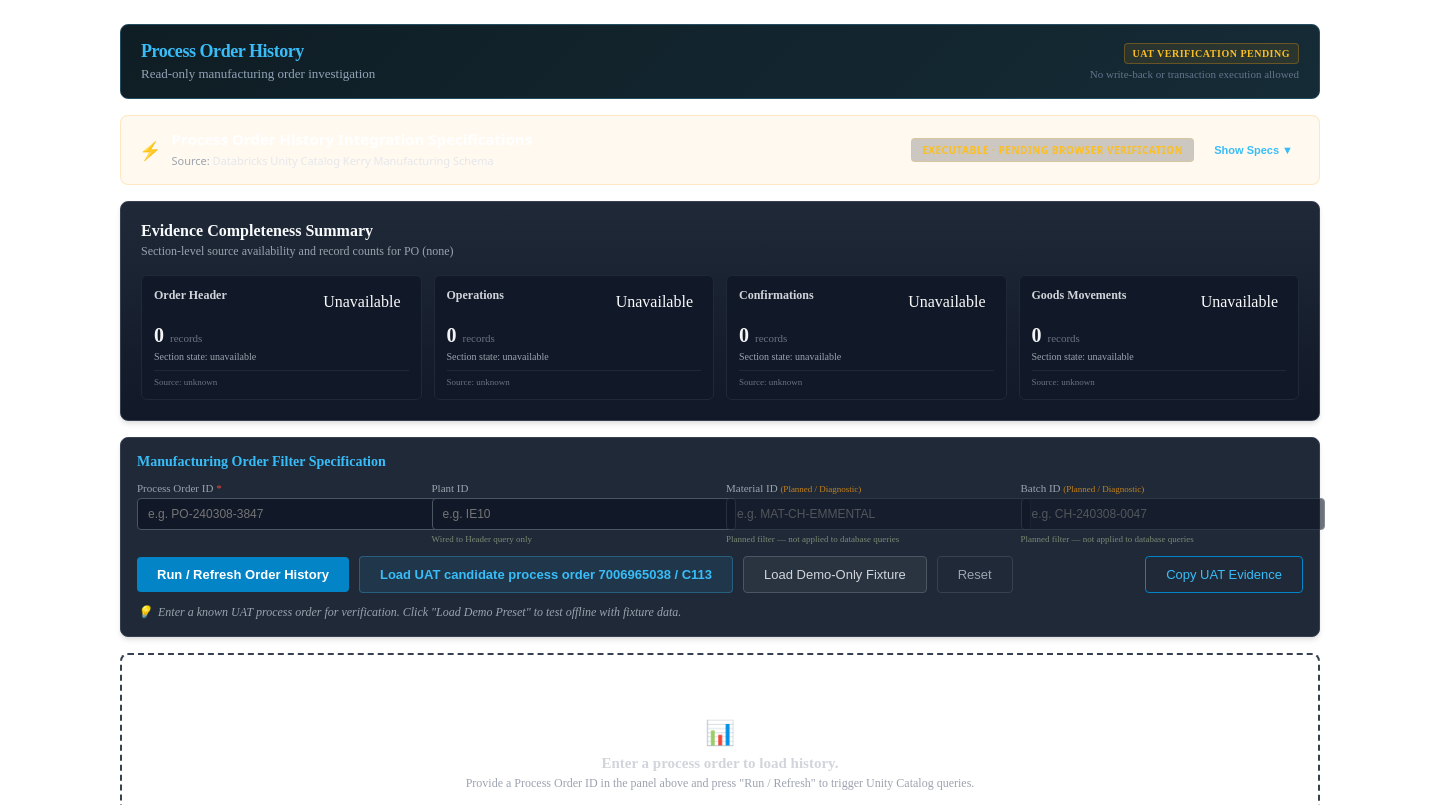
OrderHistoryView › displays mock fixture warning banner and diagnostic fieldset when preset is clicked, and auto-dismisses on input change or reset
The width and height of the screenshot is (1440, 805).
// Verify preset button
Click the button "Load Demo-Only Fixture" at (835, 574), box [743,556,927,593]
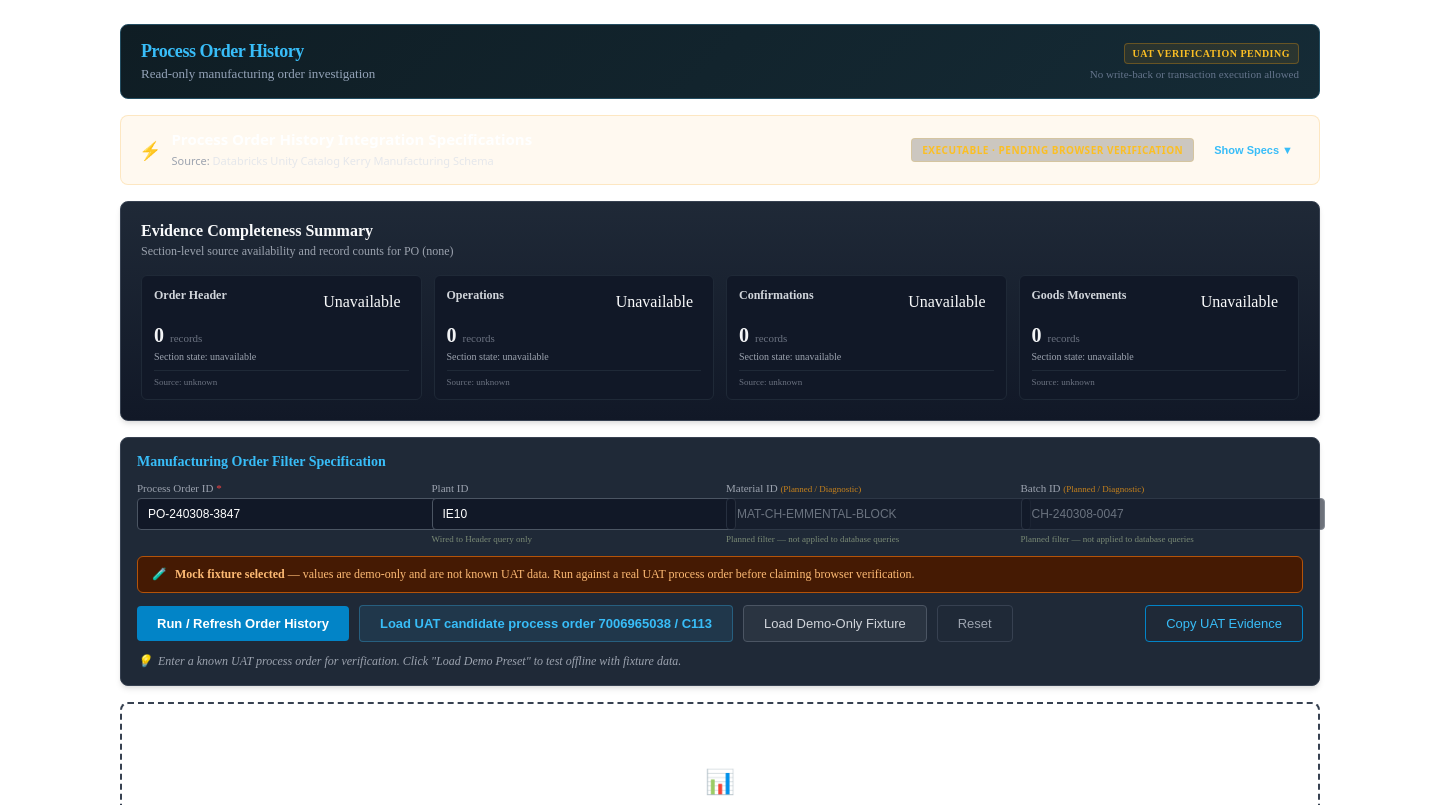
Expected: the text "Mock fixture selected" is shown, [175,567,285,581]
// Edit process order input
Replace the text in the field with placeholder "e.g. PO-240308-3847" with "NEW-PO-ID" at (289, 514), box [137,498,442,530]
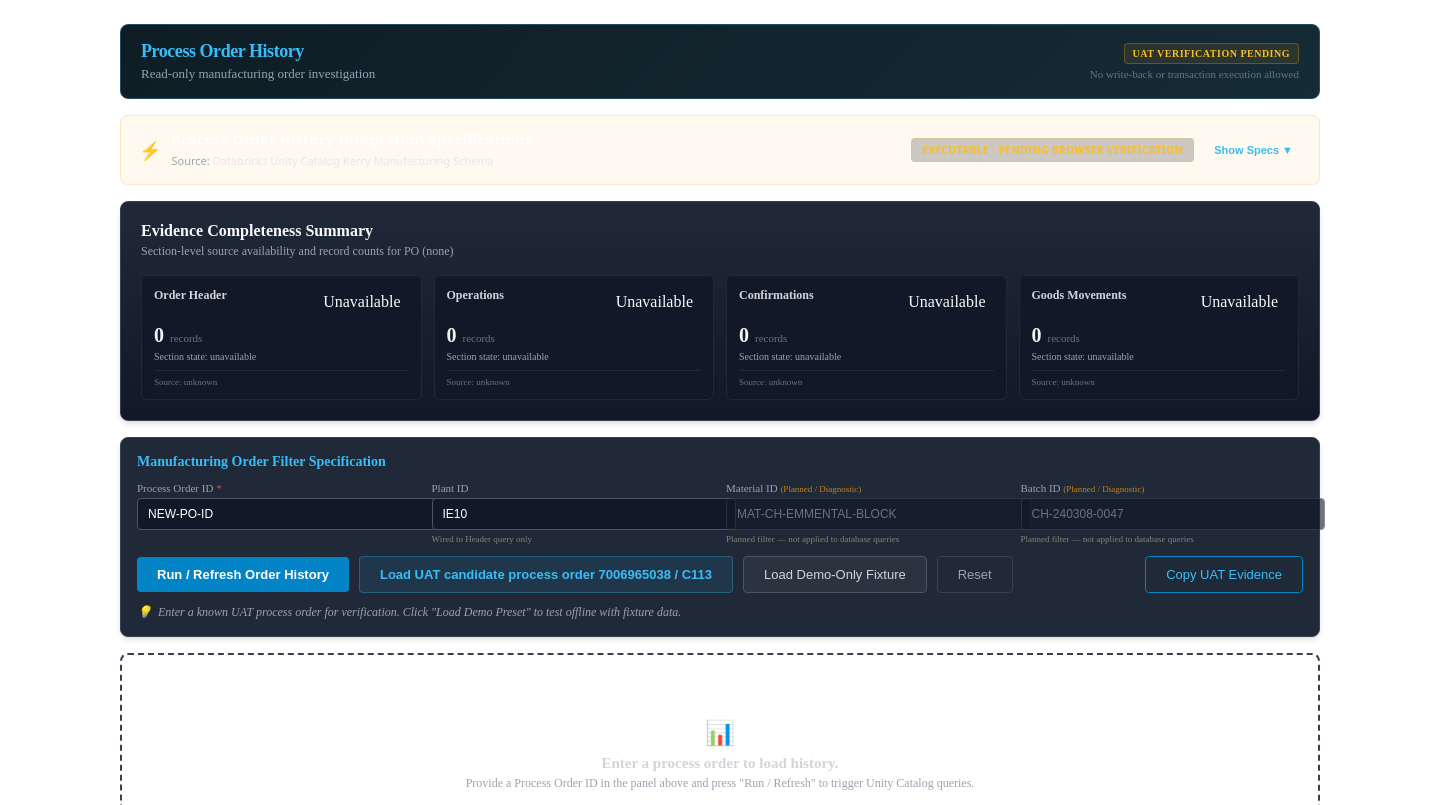
Expected: the text "Mock fixture selected" is gone
// Click preset again to restore warning
Click the button "Load Demo-Only Fixture" at (835, 574), box [743,556,927,593]
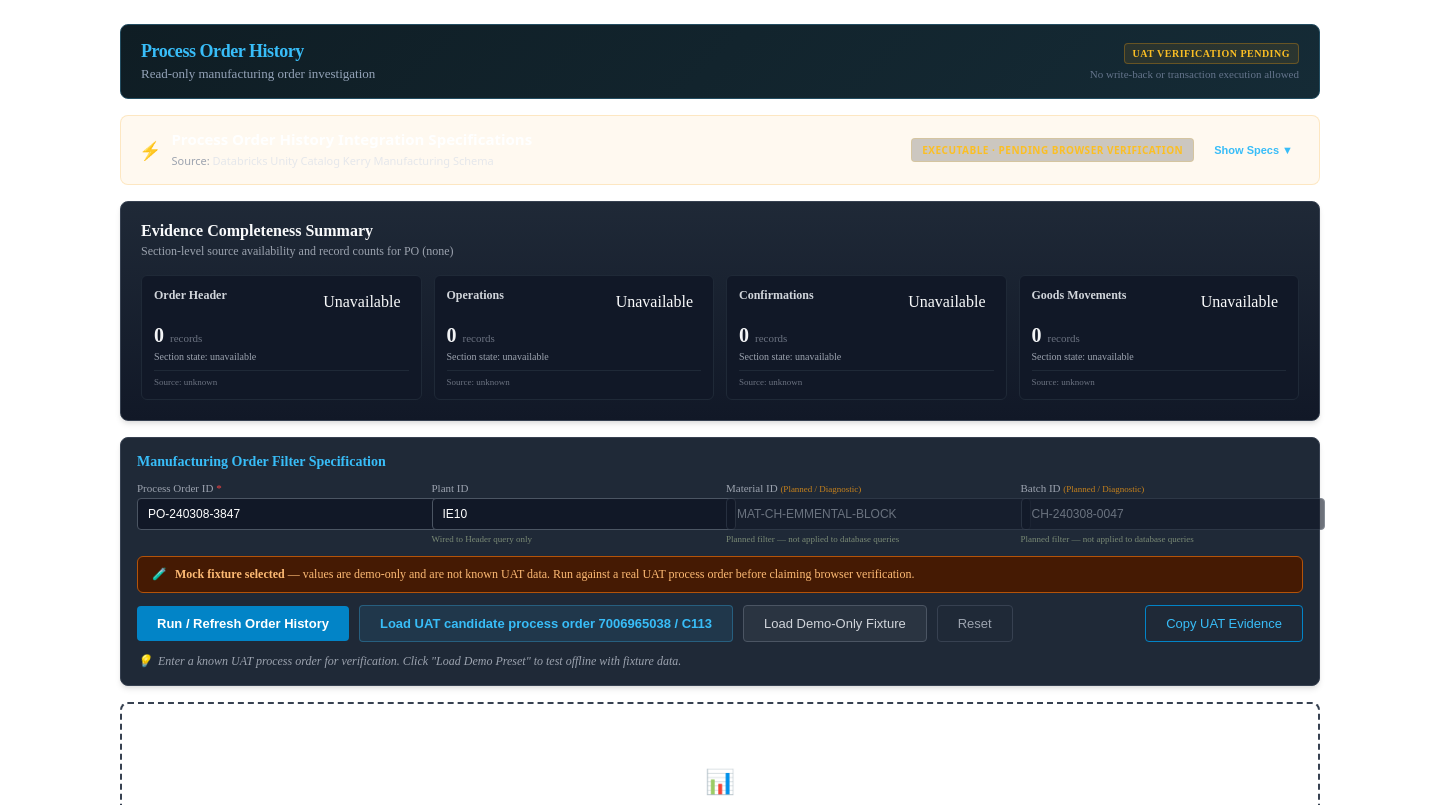
Expected: the text "Mock fixture selected" is shown, [175,567,285,581]
// Edit process order input
Replace the text in the field with placeholder "e.g. PO-240308-3847" with "NEW-PO-ID" at (289, 514), box [137,498,442,530]
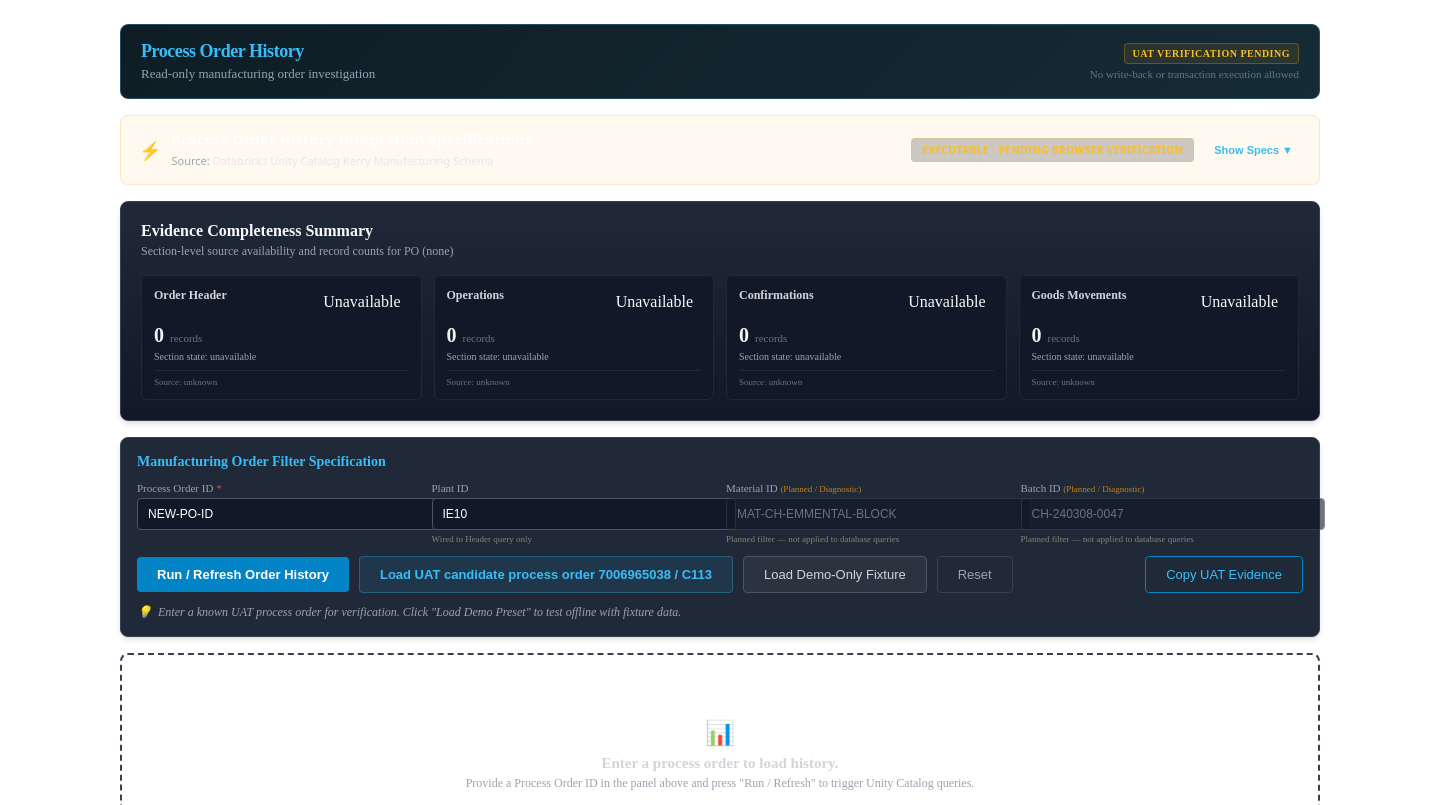
Expected: the text "Mock fixture selected" is gone
